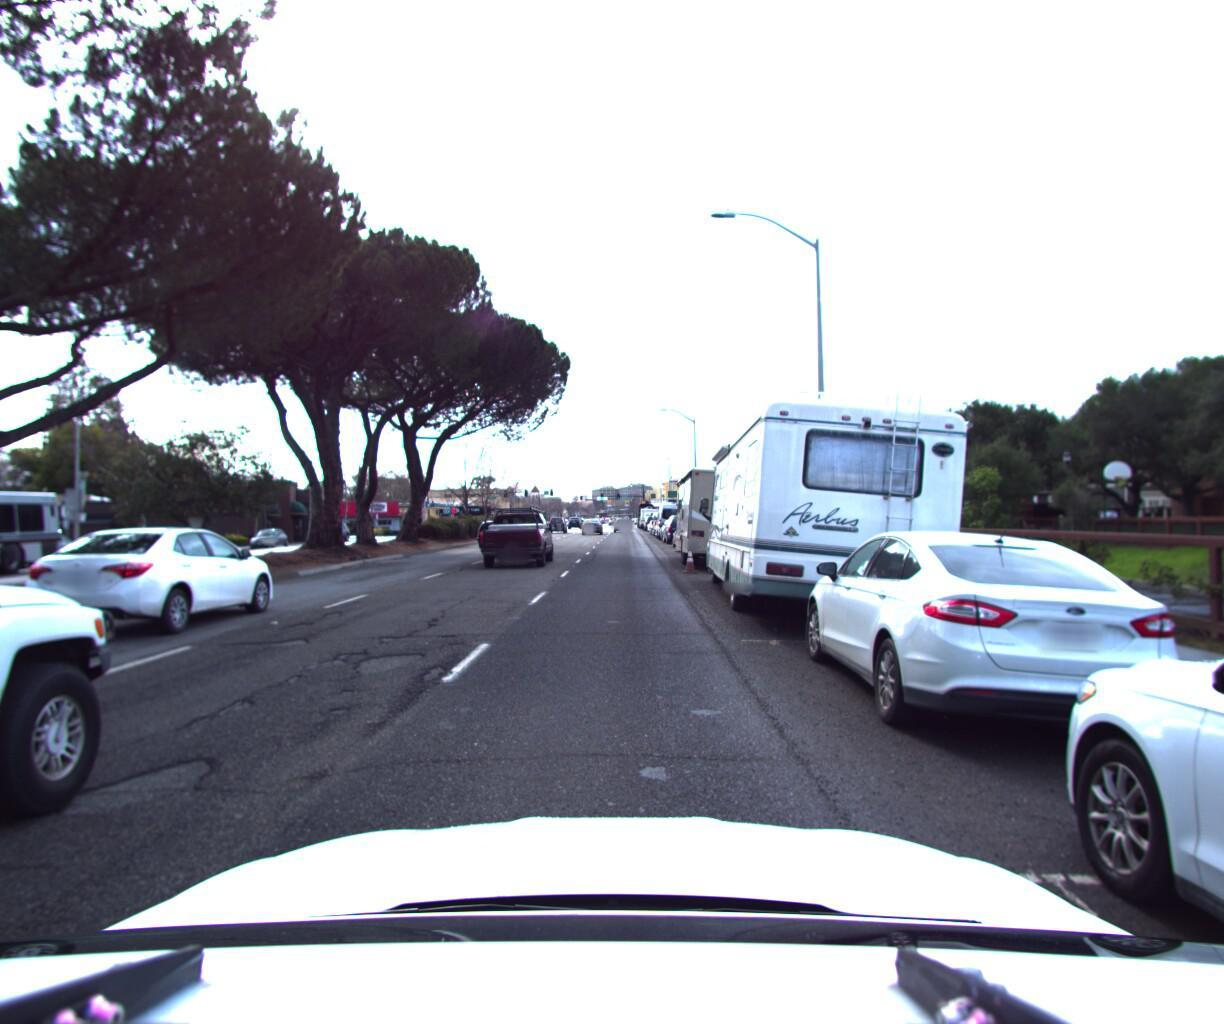bus: (0, 486, 70, 611)
car: (0, 184, 140, 1024), (795, 523, 1222, 778), (5, 521, 290, 650), (475, 503, 557, 573), (0, 533, 93, 575), (658, 499, 693, 541), (665, 514, 703, 546), (252, 529, 294, 551), (582, 517, 604, 536), (547, 515, 569, 532), (613, 518, 631, 533)
other_vehicle: (701, 377, 981, 652), (672, 466, 794, 579)
